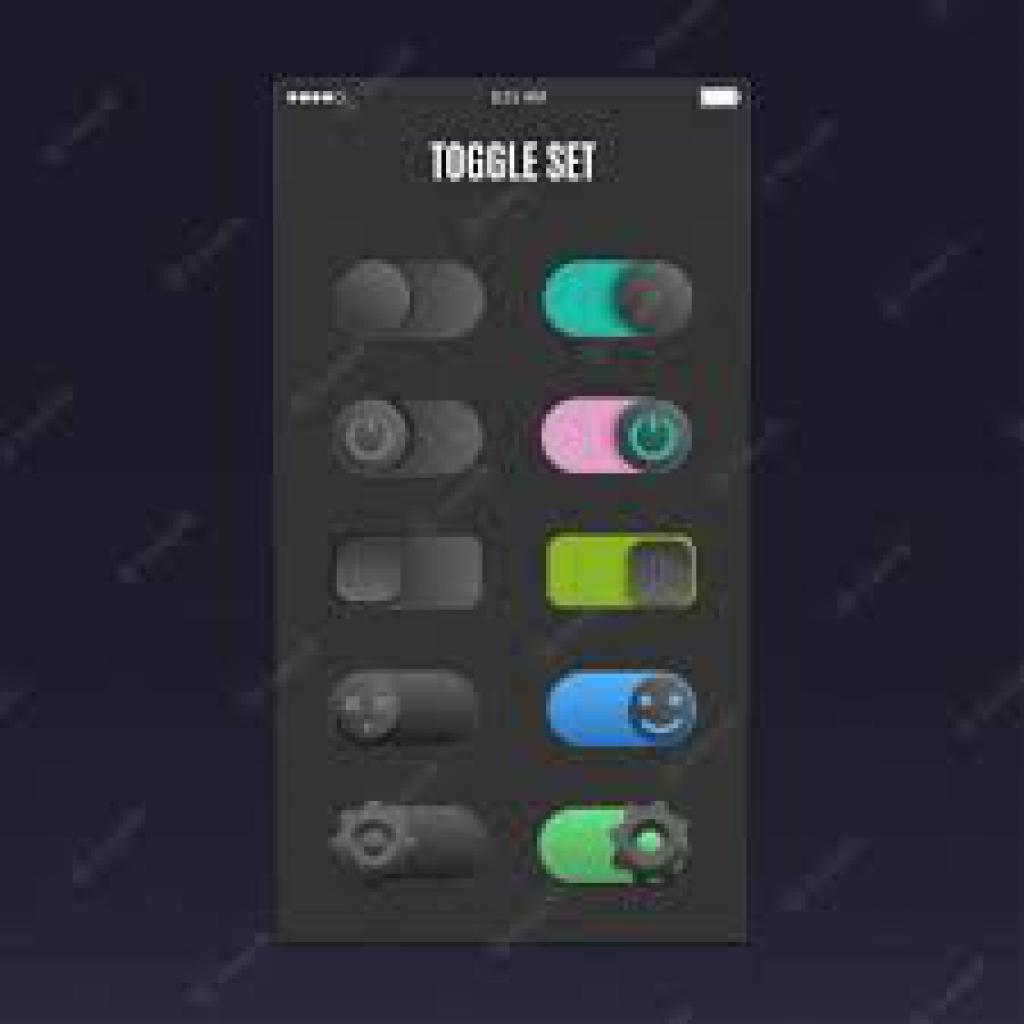switch: (306, 792, 489, 898), (525, 252, 702, 354), (535, 529, 715, 628), (525, 390, 699, 488), (322, 254, 490, 352), (326, 525, 489, 617), (525, 808, 707, 890), (331, 395, 496, 483), (541, 663, 709, 749), (334, 667, 497, 754)
